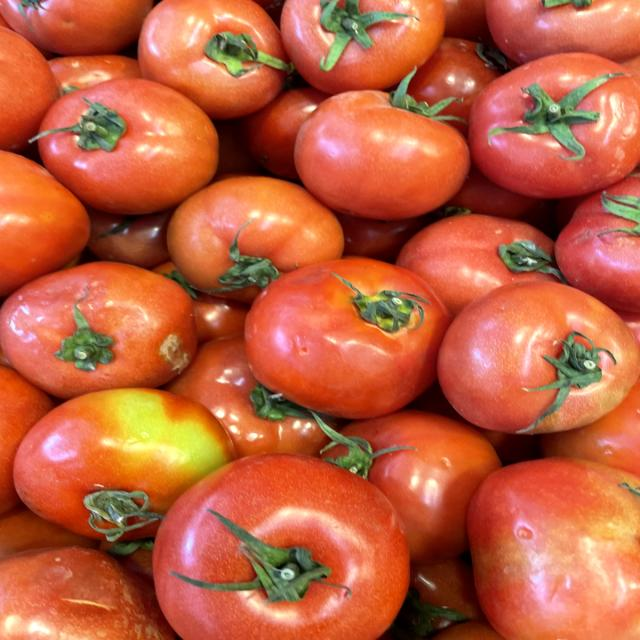tomato: (137, 444, 419, 640), (225, 246, 468, 417), (433, 269, 640, 437), (462, 39, 640, 216), (0, 257, 221, 399), (291, 72, 488, 228), (25, 65, 234, 211), (124, 0, 305, 122)
